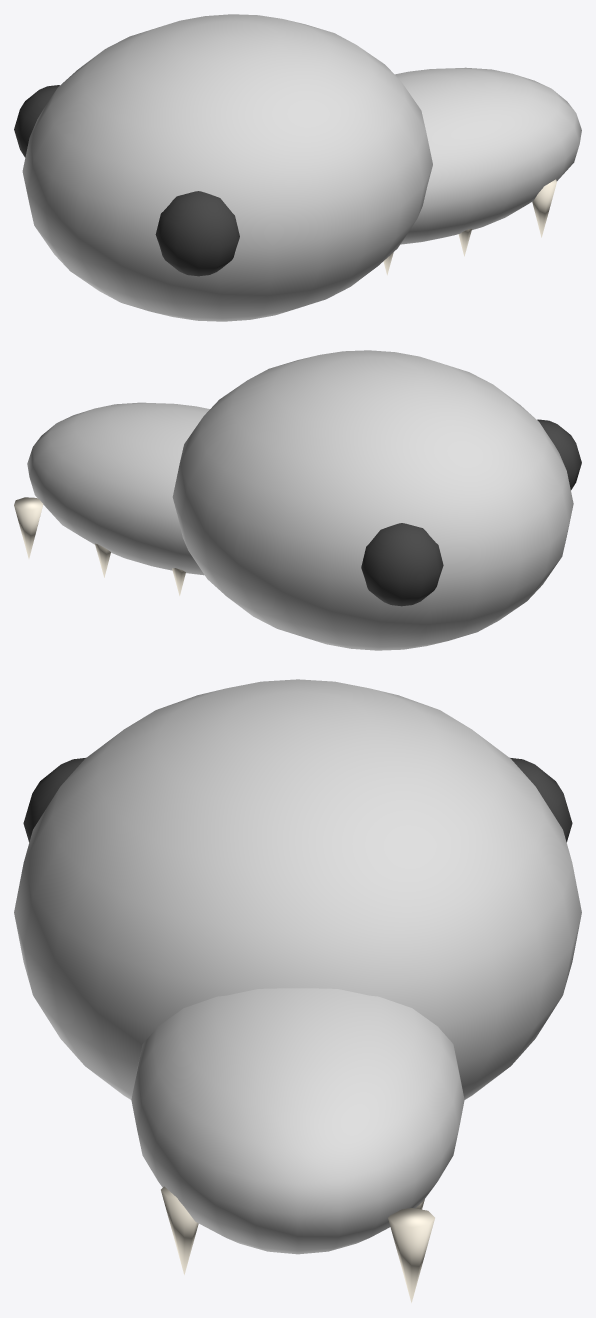
The model's file is skull.glb.
3 renders of one model, top to bottom at view 1: azimuth 30°, elevation 25°; view 2: azimuth 150°, elevation 25°; view 3: azimuth 270°, elevation 25°, orthographic. The views are drawn at different scales.
Visible parts, largest first — view 1: skull; view 2: skull; view 3: skull.
Part boxes in pixels (x1,y1,x2,y2): skull: (14, 14, 581, 321); skull: (14, 350, 581, 650); skull: (14, 679, 581, 1302).
Bounding box in the file's own units: 0.956 × 0.45 × 0.6.
